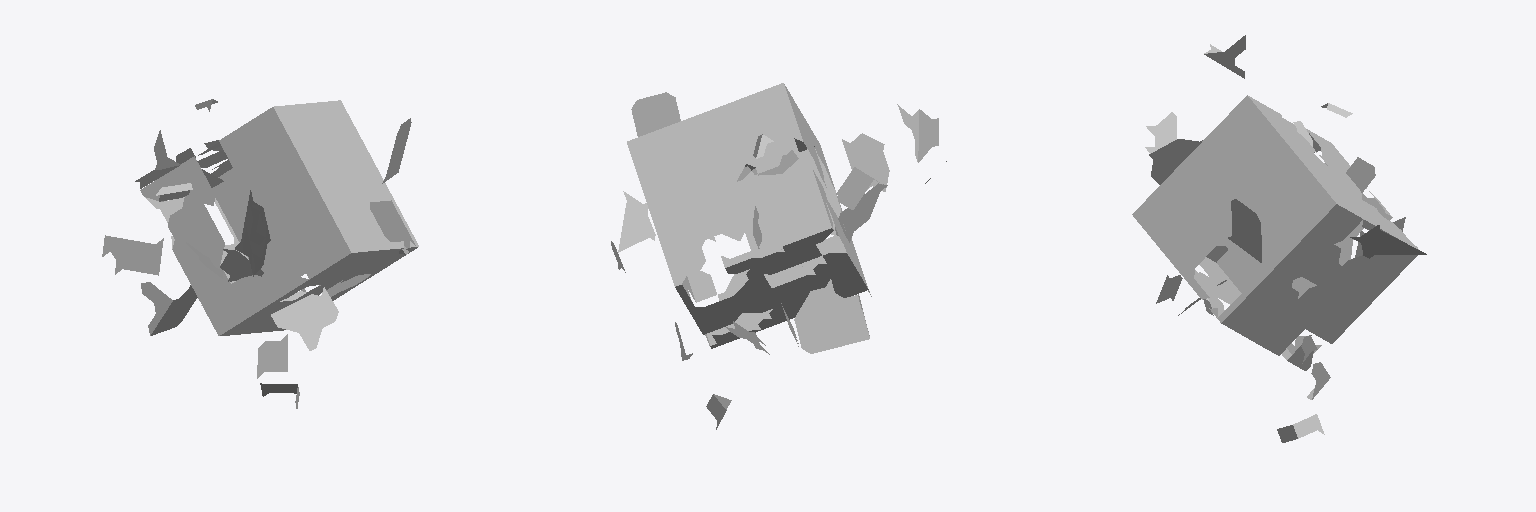
Rendered from explode_000030.obj.
3 renders of one model, left to right at view 1: azimuth 30°, elevation 25°; view 2: azimuth 150°, elevation 25°; view 3: azimuth 270°, elevation 25°, orthographic.
Visible parts, largest first — view 1: Cube_Cube.001; view 2: Cube_Cube.001; view 3: Cube_Cube.001.
Part boxes in pixels (bbox=[...]): Cube_Cube.001: bbox=[102, 99, 418, 408]; Cube_Cube.001: bbox=[611, 83, 946, 429]; Cube_Cube.001: bbox=[1132, 35, 1426, 442].
Bounding box in the file's own units: 4 × 4.37 × 3.51.